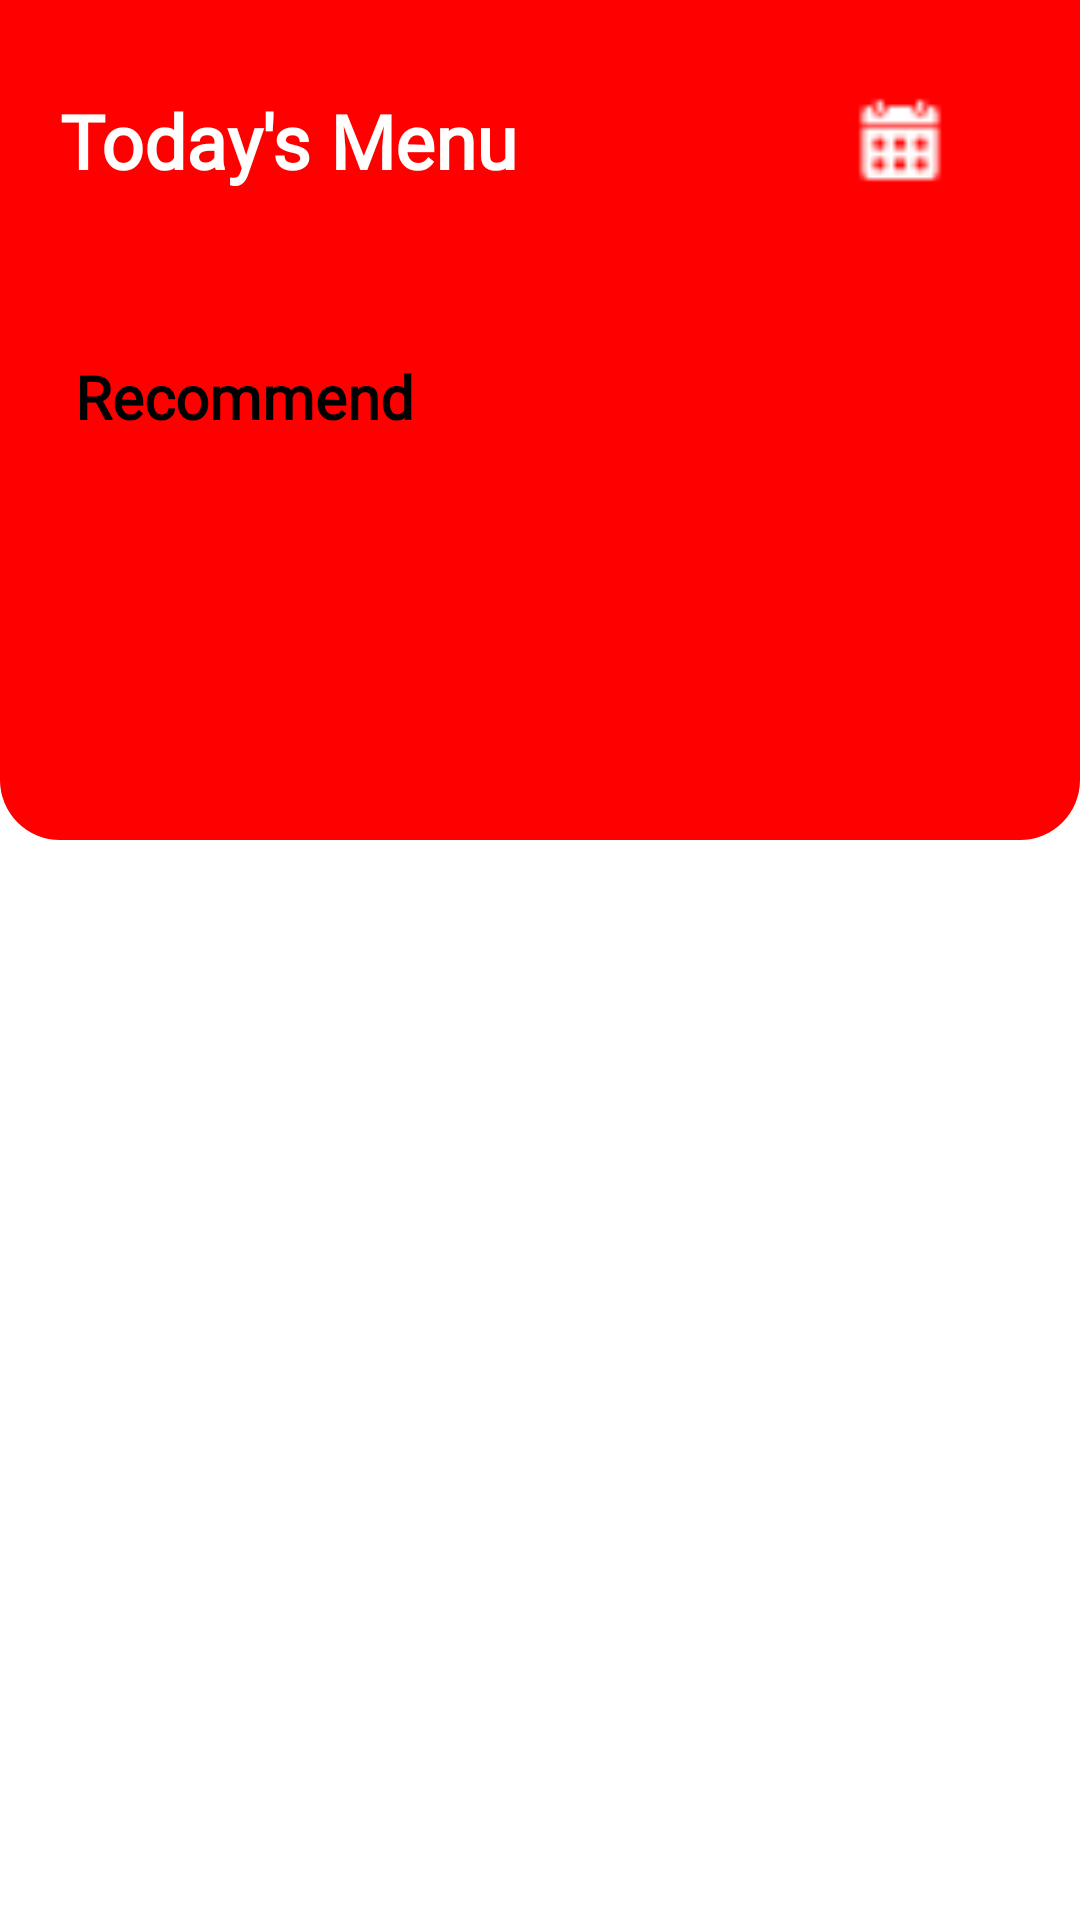

Icons on this 1080×1920 Android screen, each with its box as box(x1, y1, x2, y2):
calendar: box(859, 98, 941, 182)
